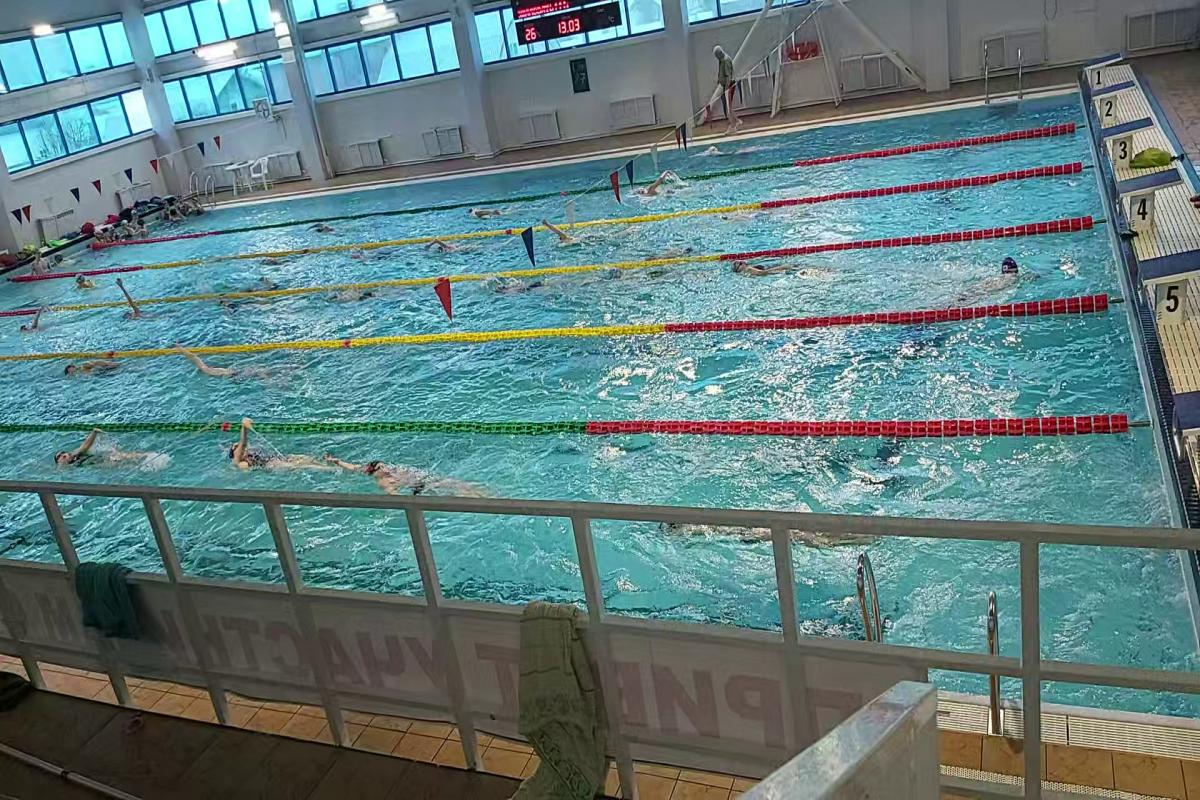swimmer: (338, 451, 496, 496), (222, 429, 322, 479), (60, 427, 149, 476), (182, 347, 284, 388), (939, 260, 1024, 302), (726, 258, 824, 284), (111, 281, 163, 323), (540, 222, 594, 251), (65, 360, 126, 383), (456, 203, 511, 223), (427, 235, 474, 258), (636, 175, 673, 204)
